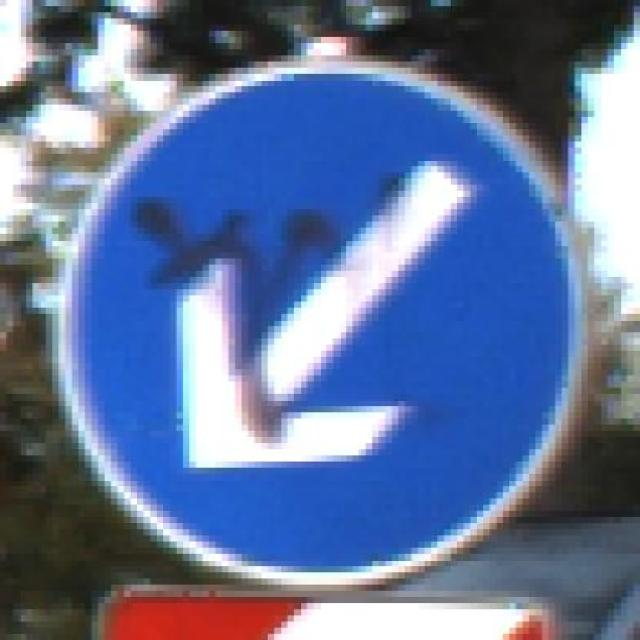Keep-Left: (46, 43, 594, 591)
